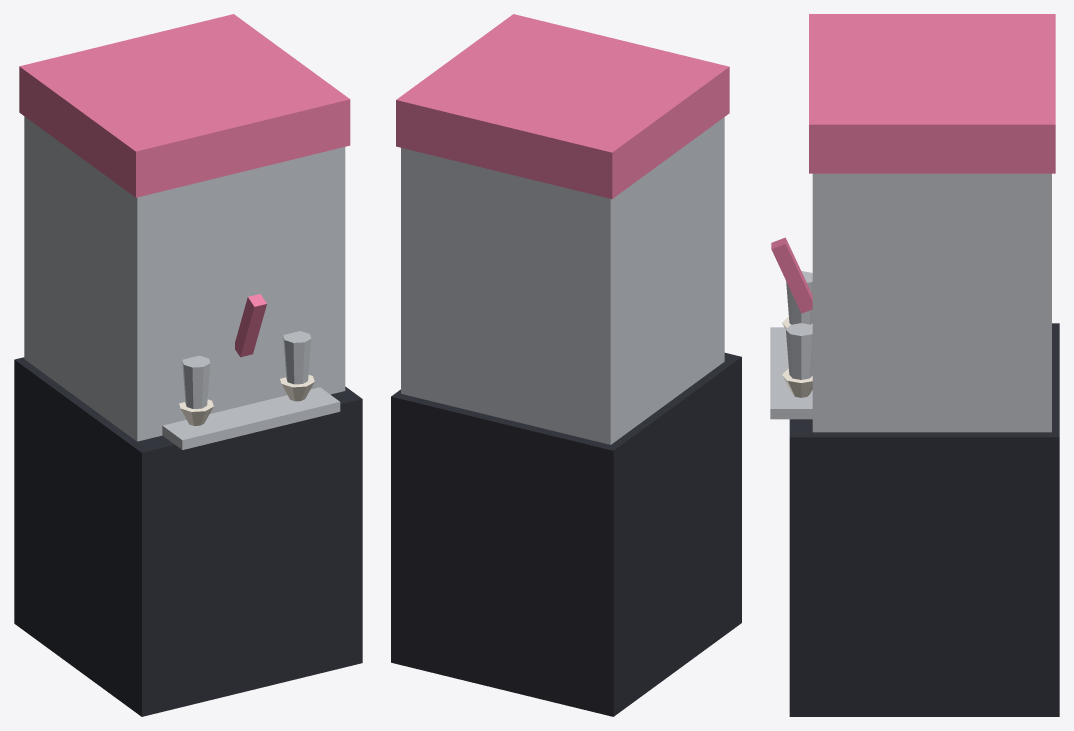
The model's file is soft_serve_machine.glb.
The picture shows the model from 3 angles, left to right: view 1: azimuth 30°, elevation 25°; view 2: azimuth 150°, elevation 25°; view 3: azimuth 270°, elevation 25°; orthographic projection. The views are drawn at different scales.
Parts seen in each view (by area): view 1: stand_machine_dark, box_machine_steel, top_machine_pink, tray_machine_steel, taps_machine_steel, lever_machine_pink; view 2: stand_machine_dark, box_machine_steel, top_machine_pink; view 3: stand_machine_dark, box_machine_steel, top_machine_pink, tray_machine_steel, taps_machine_steel, lever_machine_pink, swirl_swirl.
Boxes of the visible parts, x1,y1,x2,y2 form: stand_machine_dark: (14,357,362,716); box_machine_steel: (24,116,345,441); top_machine_pink: (19,14,350,197); tray_machine_steel: (162,387,340,449); taps_machine_steel: (182,331,311,408); lever_machine_pink: (235,294,266,357); stand_machine_dark: (391,352,741,716); box_machine_steel: (401,117,724,444); top_machine_pink: (396,14,729,198); stand_machine_dark: (789,323,1059,716); box_machine_steel: (812,173,1051,432); top_machine_pink: (809,14,1055,173); tray_machine_steel: (770,327,812,419); taps_machine_steel: (786,271,812,379); lever_machine_pink: (771,237,812,313); swirl_swirl: (782,369,812,397).
Bounding box in the file's own units: 0.7 × 1.69 × 0.75.
